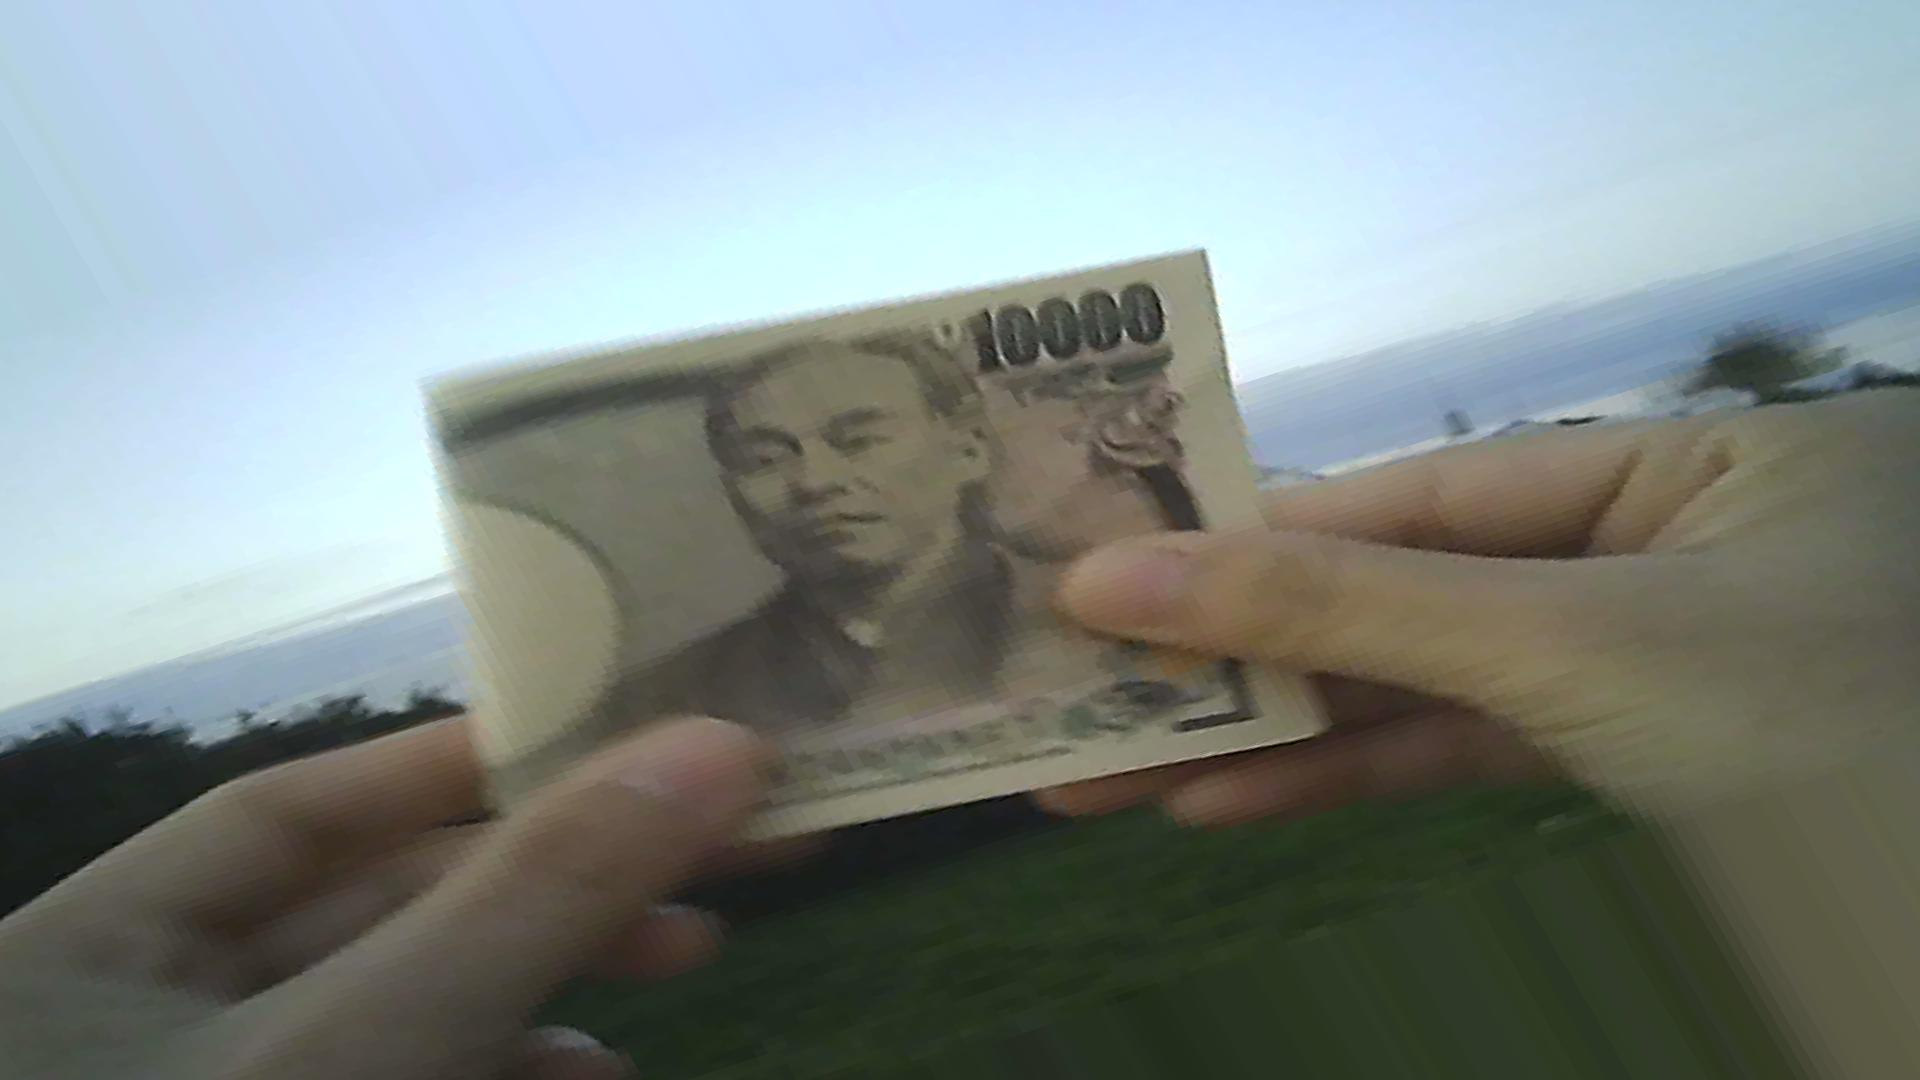10,000 Yen: (409, 260, 1364, 800)
